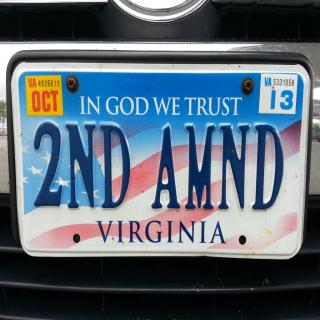license: (6, 50, 317, 258)
